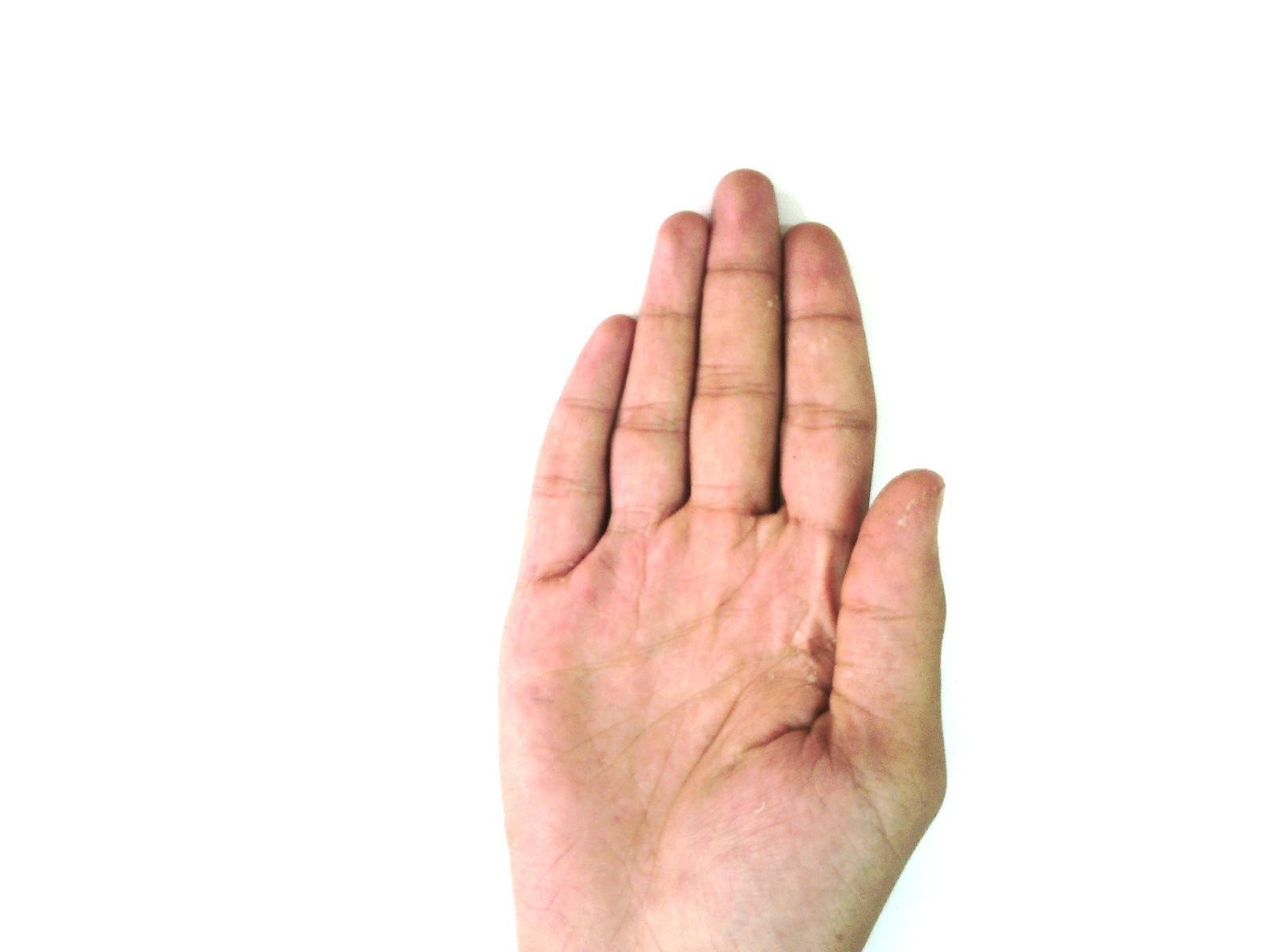open_palm: (493, 168, 953, 951)
